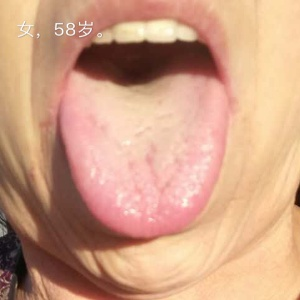st: (58, 81, 233, 239)
